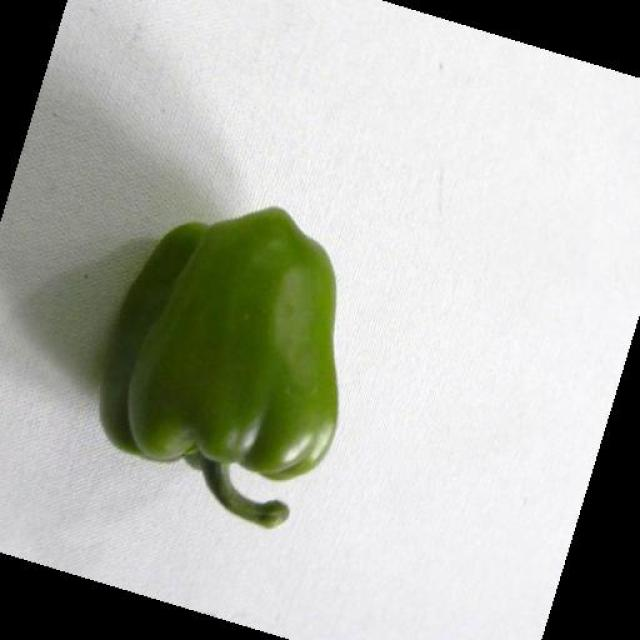Fresh_Capsicum: (66, 193, 370, 511)
